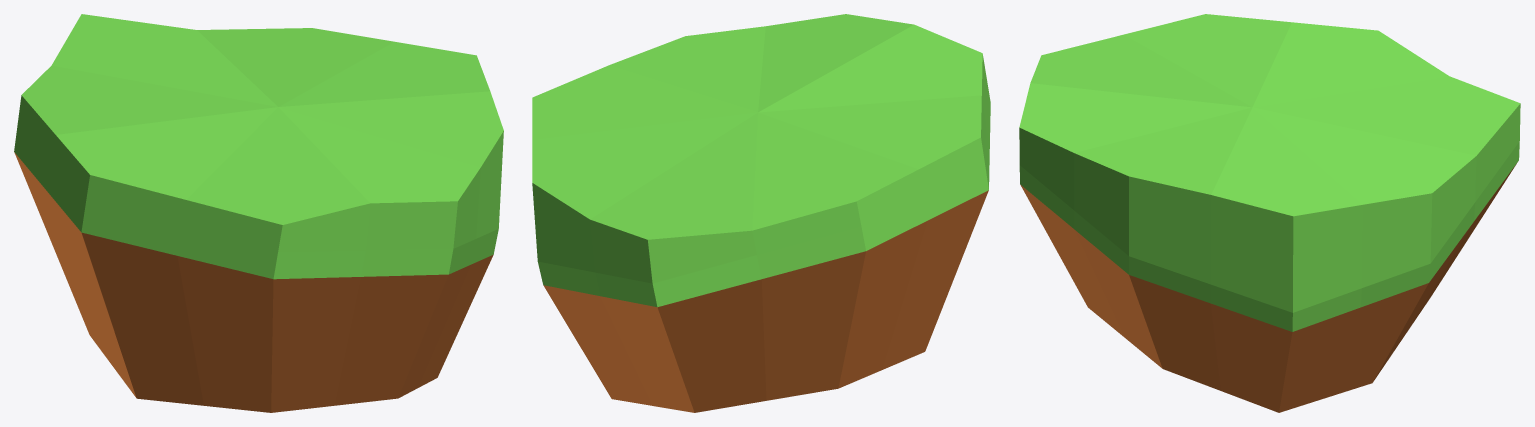
File: platform.fbx
3 renders of one model, left to right at view 1: azimuth 30°, elevation 25°; view 2: azimuth 150°, elevation 25°; view 3: azimuth 270°, elevation 25°, orthographic. The views are drawn at different scales.
Parts seen in each view (by area): view 1: Cylinder.001, Cylinder; view 2: Cylinder.001, Cylinder; view 3: Cylinder.001, Cylinder.
Boxes of the visible parts, box(x1,y1,x2,y2) form: Cylinder.001: box(14, 14, 503, 279); Cylinder: box(14, 152, 493, 412); Cylinder.001: box(532, 14, 990, 307); Cylinder: box(543, 190, 988, 412); Cylinder.001: box(1019, 14, 1520, 331); Cylinder: box(1020, 162, 1517, 412).
Size of the model in its own units: 184 by 117 by 212.
